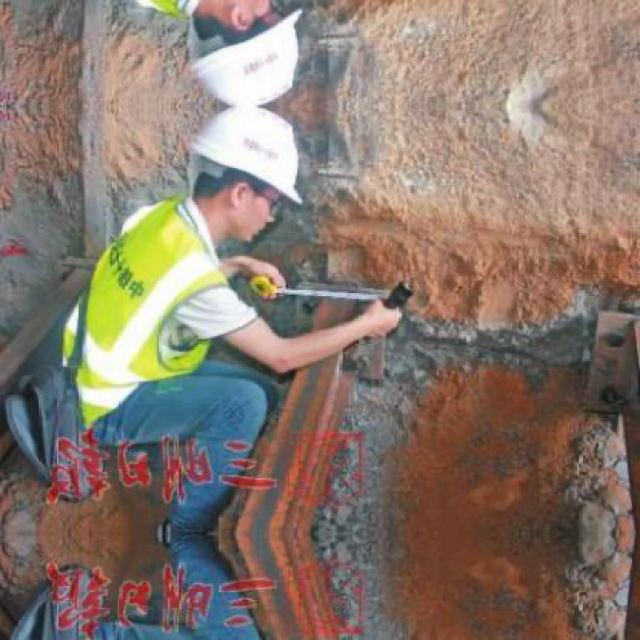con casco: (176, 0, 324, 114), (184, 112, 322, 208)
